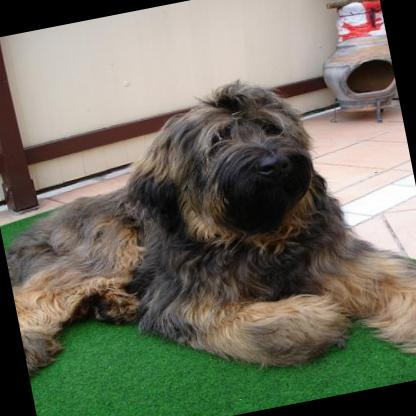briard: (0, 45, 416, 416)
